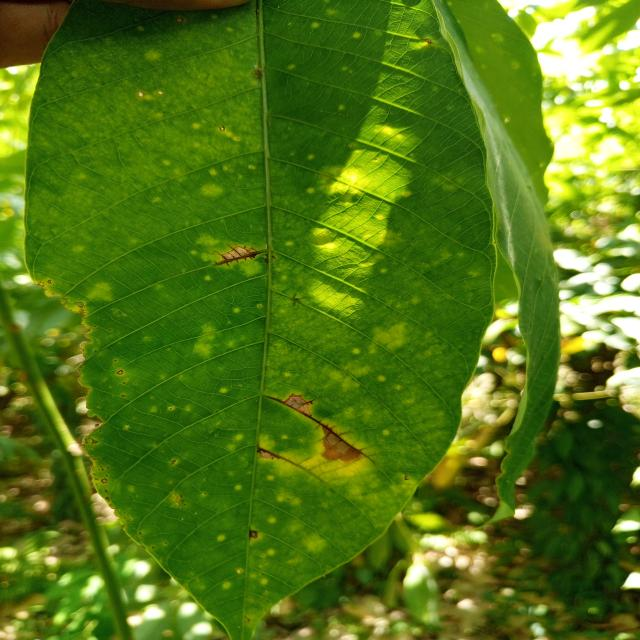Colletotrichum: (101, 478, 108, 484), (219, 126, 225, 132), (117, 370, 124, 375), (138, 92, 144, 97), (158, 91, 163, 95), (106, 466, 110, 469), (244, 397, 246, 399), (122, 394, 124, 396), (258, 306, 261, 307)
Corynespora: (266, 396, 362, 454), (256, 446, 321, 478), (212, 243, 264, 268), (248, 527, 259, 540), (300, 398, 316, 406)
Leaf-Blight: (322, 428, 361, 461), (286, 394, 312, 415)
